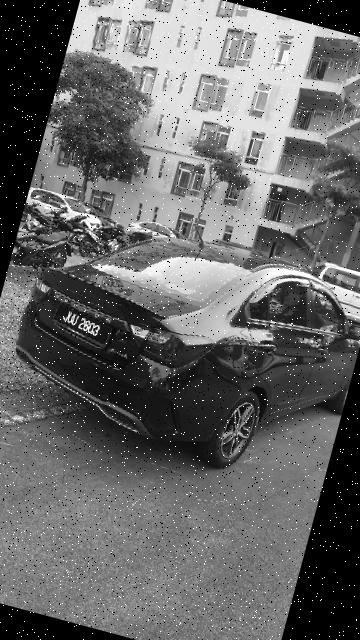License_Plate: (47, 300, 122, 357)
car: (1, 182, 360, 496)
